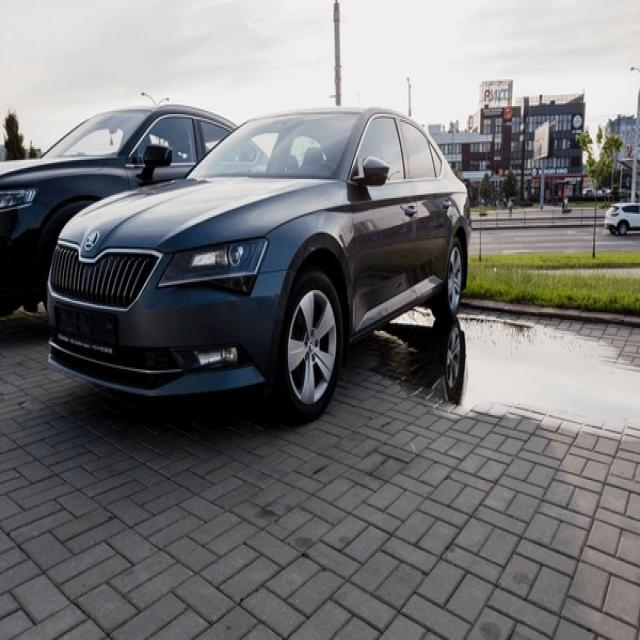skoda: (81, 229, 102, 256)
